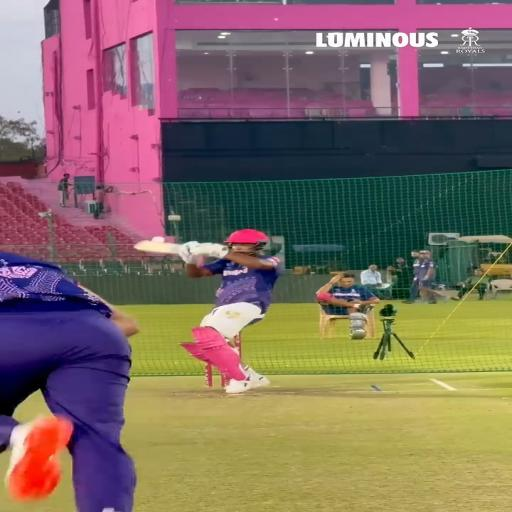Cricket bat: (134, 240, 182, 254)
